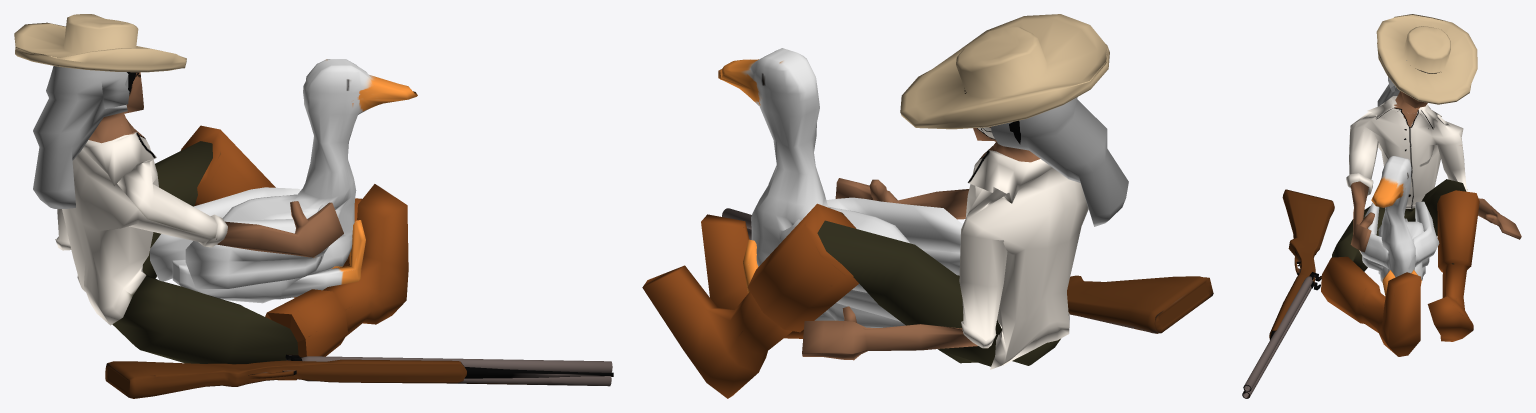
Rendered from bowmari_8.obj.
3 renders of one model, left to right at view 1: azimuth 30°, elevation 25°; view 2: azimuth 150°, elevation 25°; view 3: azimuth 270°, elevation 25°, orthographic. The views are drawn at different scales.
Parts seen in each view (by area): view 1: Default_Body_Cube, Cube.005, SHOTGUN_Cube.007, Hair_Cube.004, Hat_Cylinder; view 2: Default_Body_Cube, Cube.005, Hat_Cylinder, Hair_Cube.004, SHOTGUN_Cube.007; view 3: Default_Body_Cube, Hat_Cylinder, Cube.005, SHOTGUN_Cube.007, Hair_Cube.004.
Part boxes in pixels (x1=…): Default_Body_Cube: x1=55, y1=72, x2=408, y2=380; Cube.005: x1=150, y1=59, x2=417, y2=303; SHOTGUN_Cube.007: x1=105, y1=354, x2=613, y2=398; Hair_Cube.004: x1=33, y1=66, x2=129, y2=208; Hat_Cylinder: x1=14, y1=14, x2=186, y2=72; Default_Body_Cube: x1=642, y1=120, x2=1088, y2=398; Cube.005: x1=718, y1=48, x2=962, y2=327; Hat_Cylinder: x1=900, y1=14, x2=1109, y2=129; Hair_Cube.004: x1=991, y1=97, x2=1128, y2=226; SHOTGUN_Cube.007: x1=722, y1=208, x2=1213, y2=333; Default_Body_Cube: x1=1321, y1=72, x2=1521, y2=356; Hat_Cylinder: x1=1376, y1=14, x2=1477, y2=104; Cube.005: x1=1359, y1=156, x2=1439, y2=296; SHOTGUN_Cube.007: x1=1242, y1=189, x2=1334, y2=398; Hair_Cube.004: x1=1377, y1=60, x2=1406, y2=106.
Bounding box in the file's own units: 6.86 × 5.15 × 5.37.
